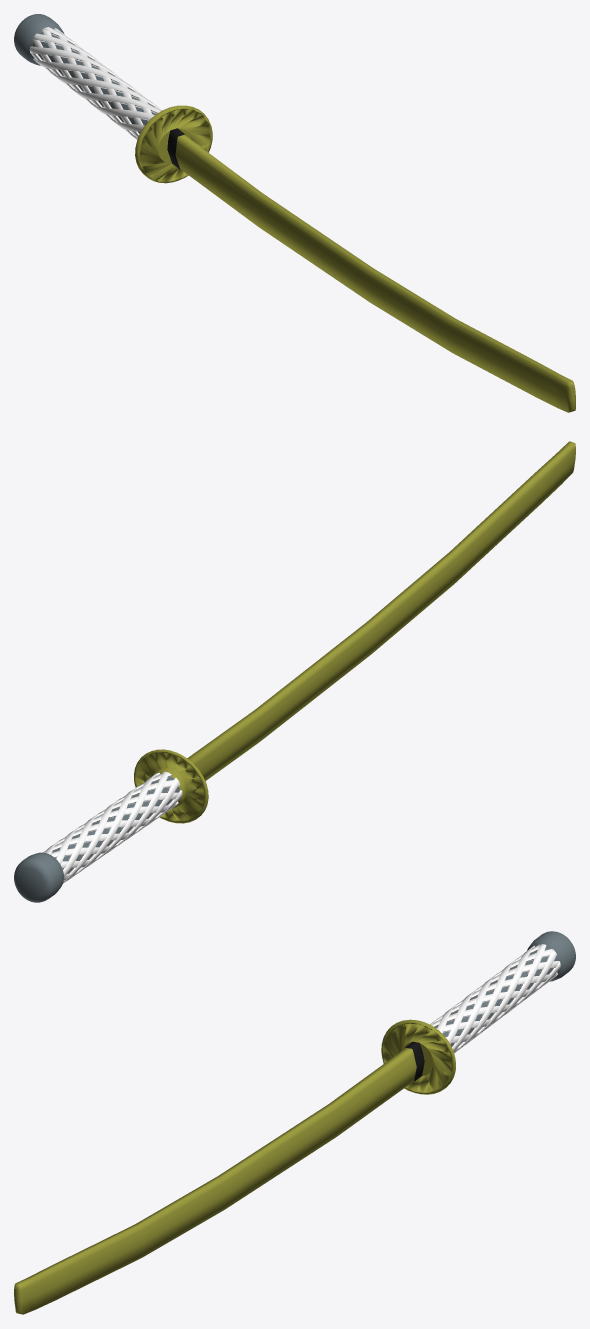
Rendered from katana.glb.
The picture shows the model from 3 angles, top to bottom: view 1: azimuth 30°, elevation 25°; view 2: azimuth 150°, elevation 25°; view 3: azimuth 330°, elevation 25°; orthographic projection. The views are drawn at different scales.
Parts seen in each view (by area): view 1: Cylinder.004, Cylinder; view 2: Cylinder.004, Cylinder; view 3: Cylinder.004, Cylinder.
Part boxes in pixels (x1,y1,x2,y2): Cylinder.004: (167,128,575,412); Cylinder: (14,14,212,183); Cylinder.004: (187,441,575,780); Cylinder: (14,749,208,902); Cylinder.004: (14,1041,424,1314); Cylinder: (381,931,575,1094).
Size of the model in its own units: 0.3972 by 0.4821 by 4.94.
